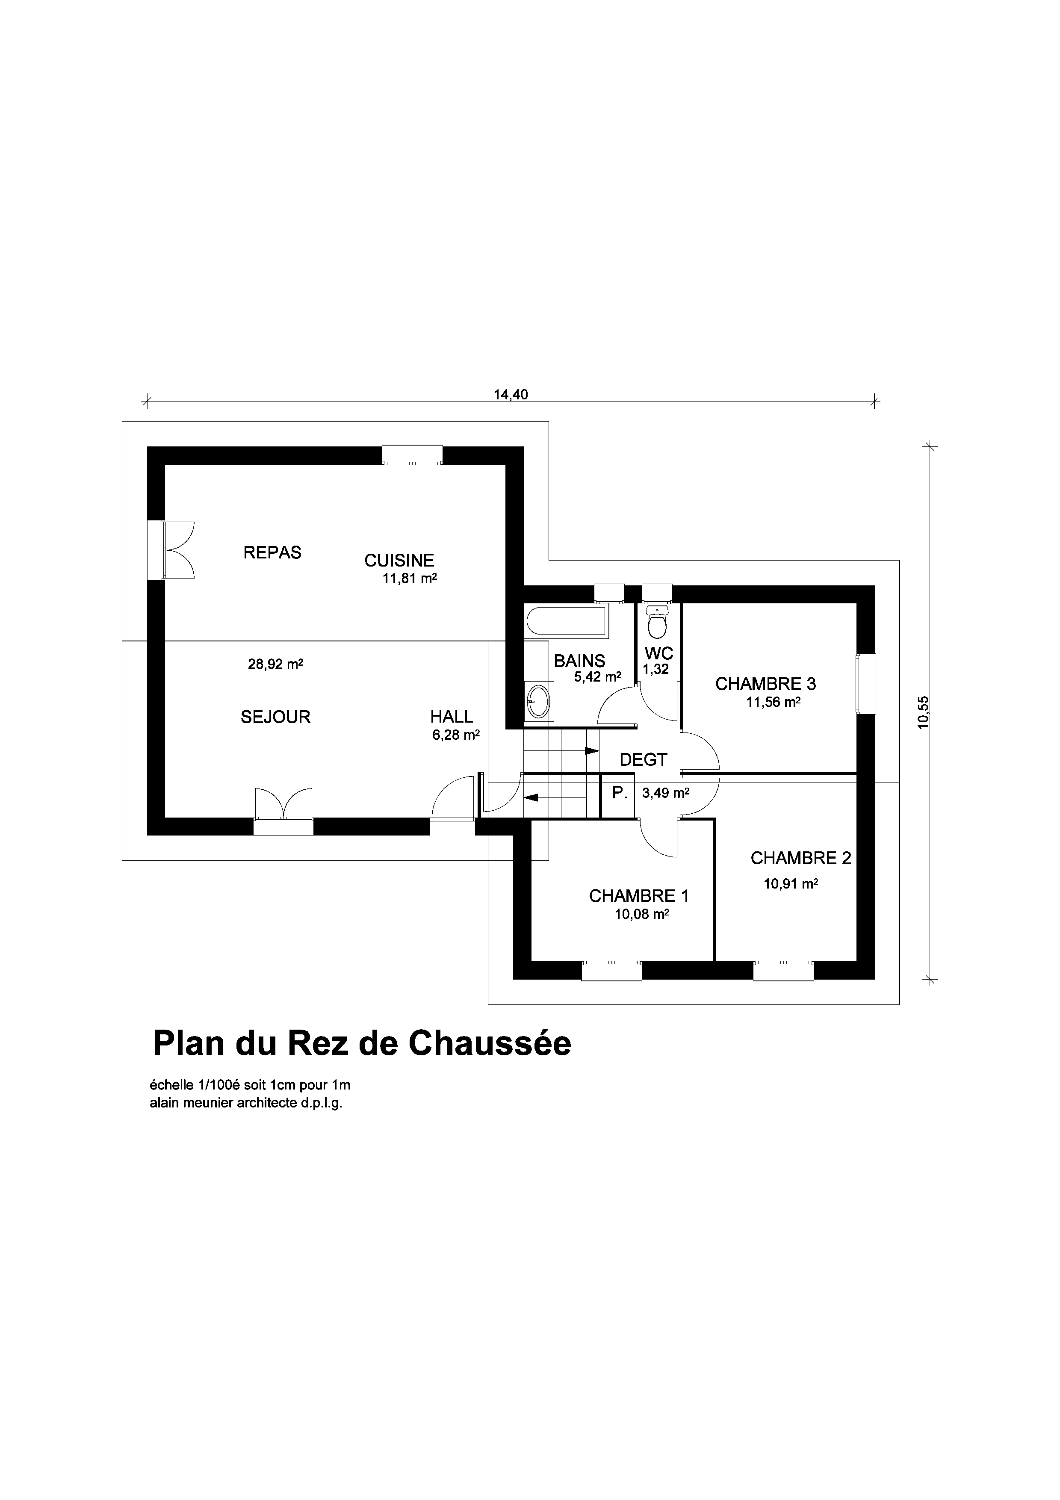bath tab: (524, 603, 609, 639)
ceramic sink: (524, 681, 554, 722)
door: (429, 776, 476, 822), (636, 817, 680, 858), (480, 771, 524, 812), (679, 774, 720, 818), (597, 683, 638, 727), (637, 681, 680, 721), (680, 729, 720, 772)
toilet: (645, 606, 669, 640)
window: (254, 787, 315, 836), (147, 519, 196, 581), (380, 445, 443, 467), (855, 653, 876, 714), (753, 961, 815, 982), (582, 961, 642, 982), (592, 583, 626, 604), (642, 583, 673, 606)
